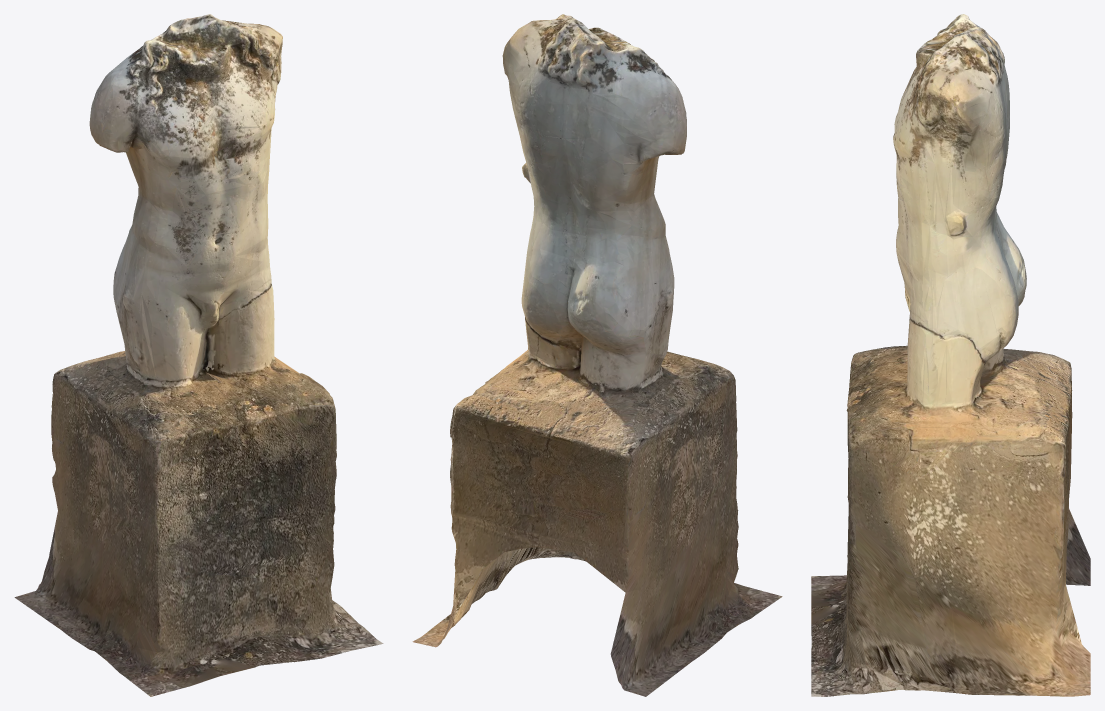
Rendered from male-torso-statue.glb.
3 views of the same model, side by side, from view 1: azimuth 30°, elevation 25°; view 2: azimuth 150°, elevation 25°; view 3: azimuth 270°, elevation 25° (orthographic). The views are drawn at different scales.
Parts seen in each view (by area): view 1: Object_3; view 2: Object_3; view 3: Object_3.
Part boxes in pixels (x1=…): Object_3: x1=14, y1=14, x2=383, y2=696; Object_3: x1=412, y1=14, x2=782, y2=696; Object_3: x1=811, y1=14, x2=1090, y2=696.
Bounding box in the file's own units: 0.6202 × 1.52 × 0.6288.
Materials: 1 (1 with a texture image).
